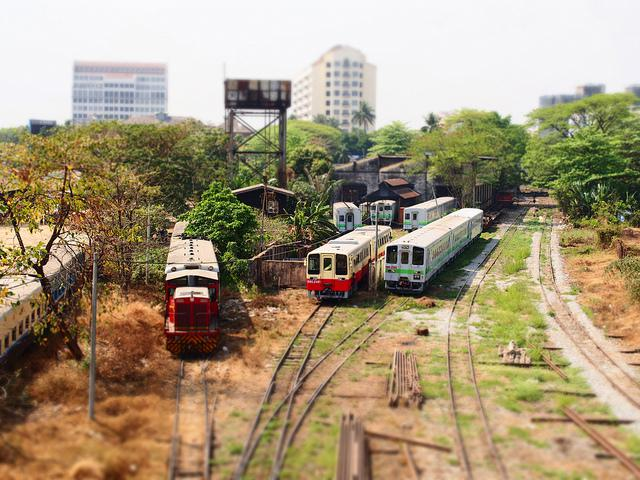Train: (0, 222, 71, 370), (380, 203, 488, 293), (160, 221, 225, 358), (308, 225, 393, 300), (404, 197, 458, 230), (333, 201, 364, 232), (371, 199, 398, 225)
